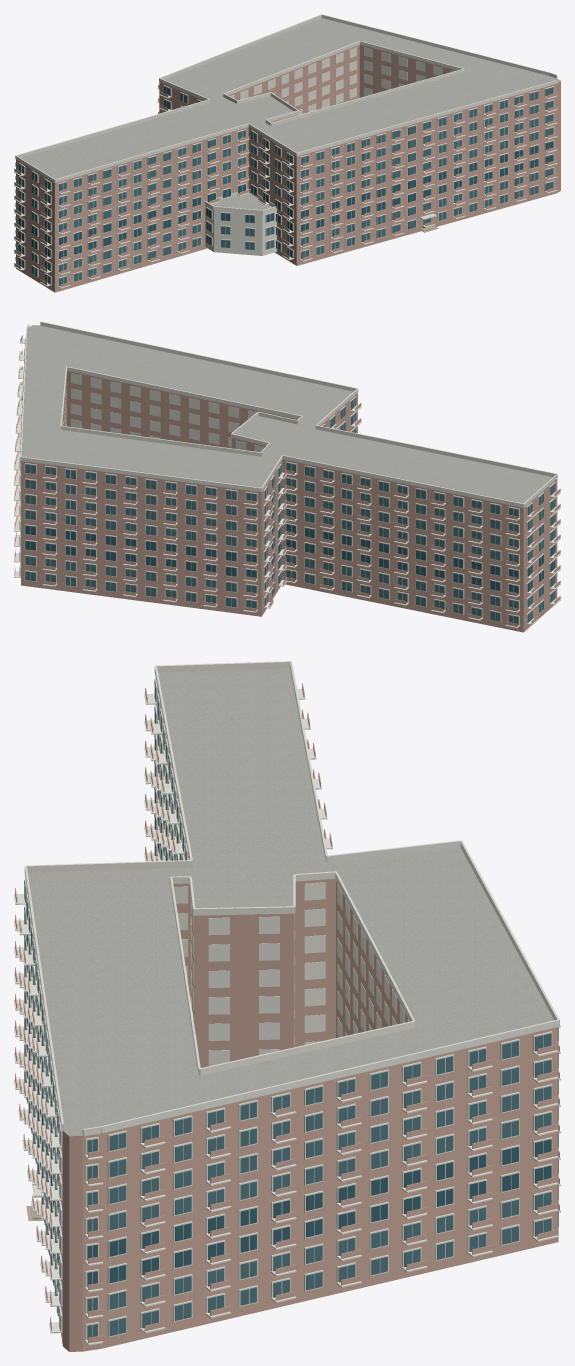
The model's file is chunk-p2-p0.glb.
The picture shows the model from 3 angles, top to bottom: view 1: azimuth 30°, elevation 25°; view 2: azimuth 150°, elevation 25°; view 3: azimuth 270°, elevation 25°; orthographic projection. The views are drawn at different scales.
Visible parts, largest first — view 1: chunk-p2-p0; view 2: chunk-p2-p0; view 3: chunk-p2-p0.
Boxes of the visible parts, <box> form: chunk-p2-p0: <box>14,14,560,292</box>; chunk-p2-p0: <box>14,321,560,632</box>; chunk-p2-p0: <box>14,661,560,1351</box>.
Size of the model in its own units: 128 by 27.7 by 61.82.
Materials: 8 (3 with a texture image).
